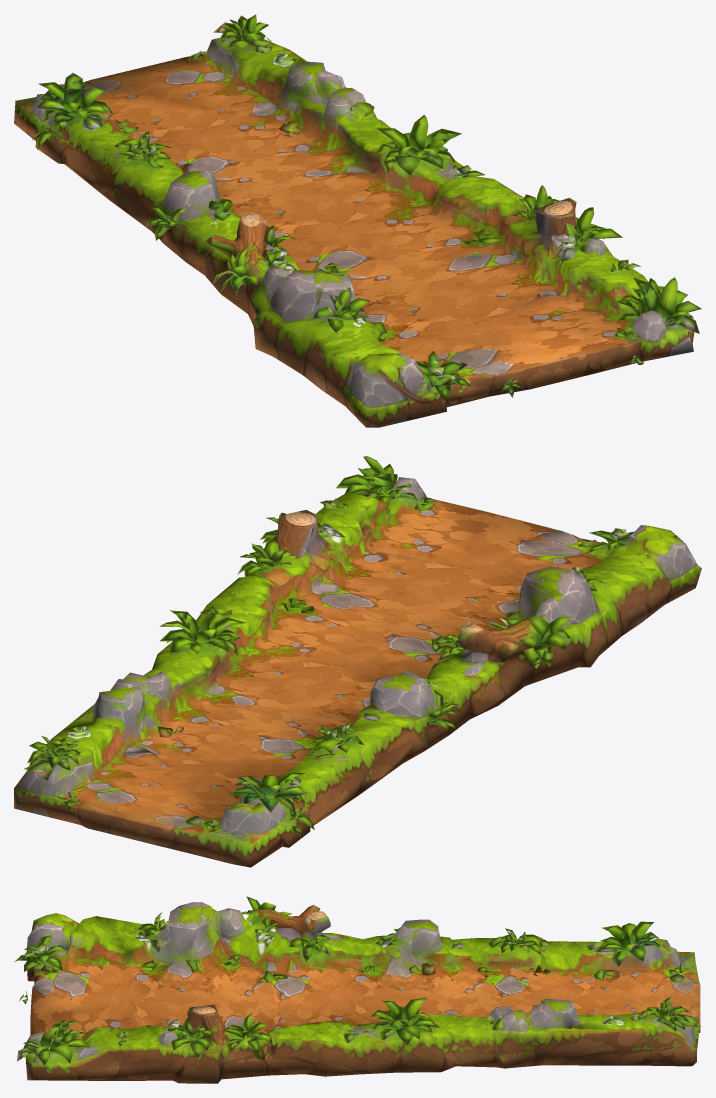
File: SENDERO DE TIERRA.glb
3 views of the same model, one above another, from view 1: azimuth 30°, elevation 25°; view 2: azimuth 150°, elevation 25°; view 3: azimuth 270°, elevation 25° (orthographic). The views are drawn at different scales.
Size of the model in its own units: 0.4668 by 0.0957 by 0.957.
1 material, 1 textured.
